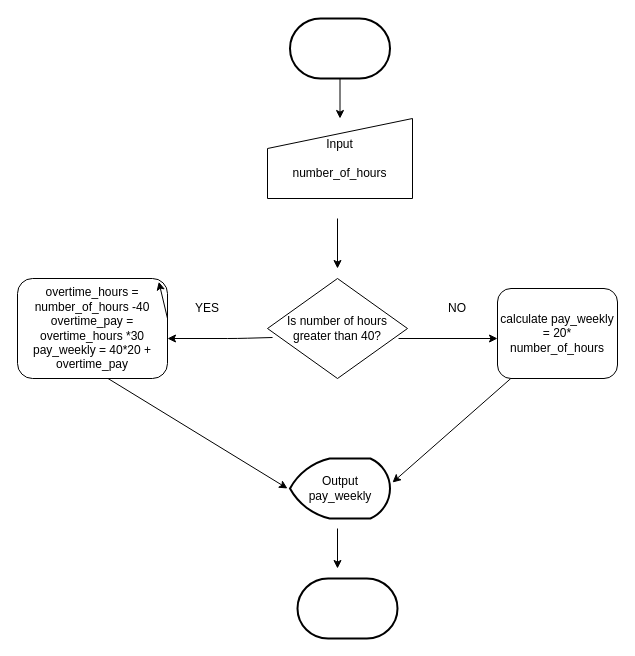
Some shapes in this 635 by 656 pixel diagram are drawn without their labels. The box of each missing label's shape, as (x1, y1, x2, y2) in pixels:
END: (296, 577, 398, 639)
START: (288, 17, 390, 79)
